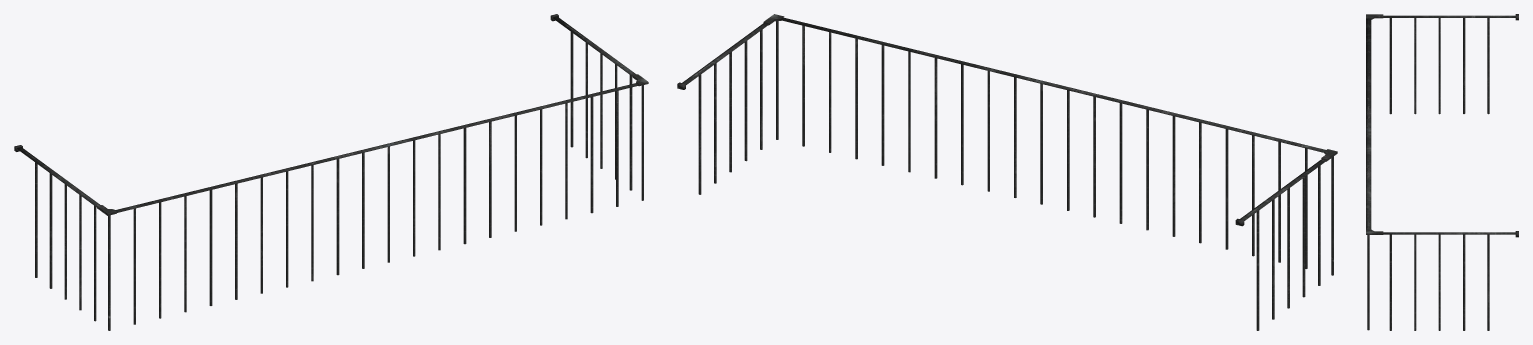
Rendered from yangin_korkuluk_4_7m.gltf.
3 views of the same model, side by side, from view 1: azimuth 30°, elevation 25°; view 2: azimuth 150°, elevation 25°; view 3: azimuth 270°, elevation 25° (orthographic). The views are drawn at different scales.
Visible parts, largest first — view 1: yangin_korkuluk_4_7m; view 2: yangin_korkuluk_4_7m; view 3: yangin_korkuluk_4_7m.
Part boxes in pixels (x1=…): yangin_korkuluk_4_7m: x1=14, y1=14, x2=648, y2=330; yangin_korkuluk_4_7m: x1=677, y1=14, x2=1337, y2=330; yangin_korkuluk_4_7m: x1=1366, y1=14, x2=1518, y2=330.
Size of what is drawn, in the model's own units: 4.71 by 0.9841 by 1.39.
1 material, 1 textured.
